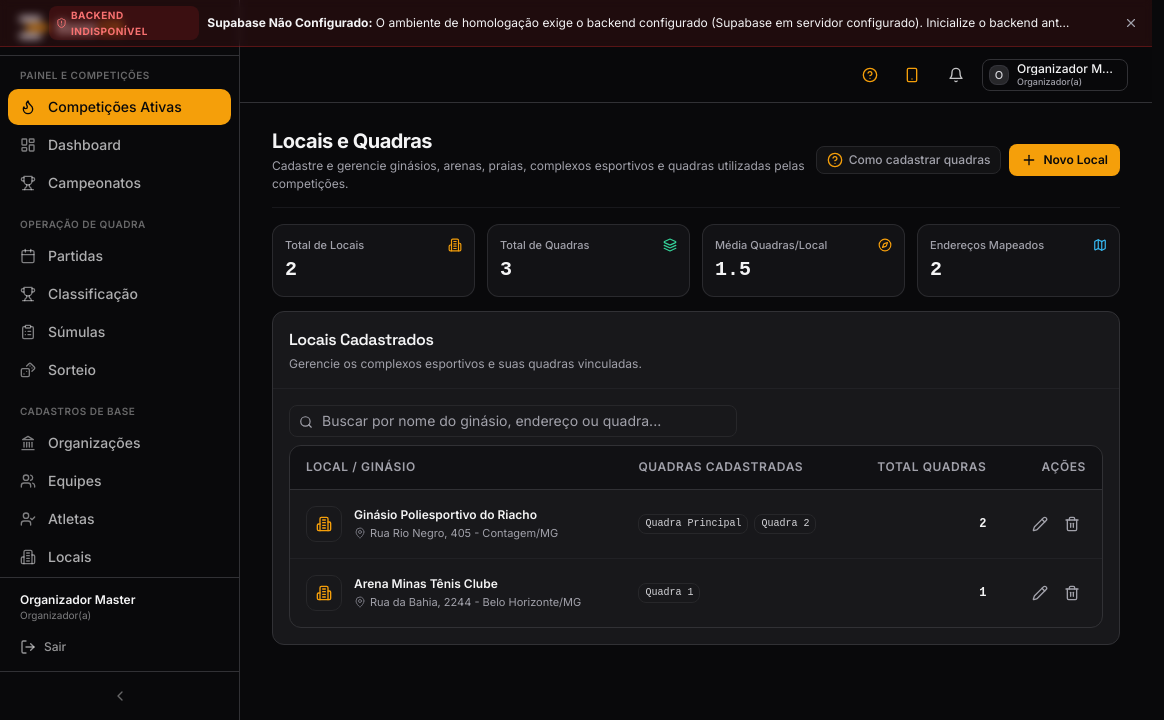
Test case: VenuesPage / LocationsPage Component (Fase 8.1) › filtra locais por busca textual em tempo real
Check: the text "Ginásio Poliesportivo do Riacho" is shown, box [354,507,558,523]
Type "Minas" into the field with placeholder "Buscar por nome do ginásio, endereço ou quadra..." at (513, 420), box [289,404,737,436]
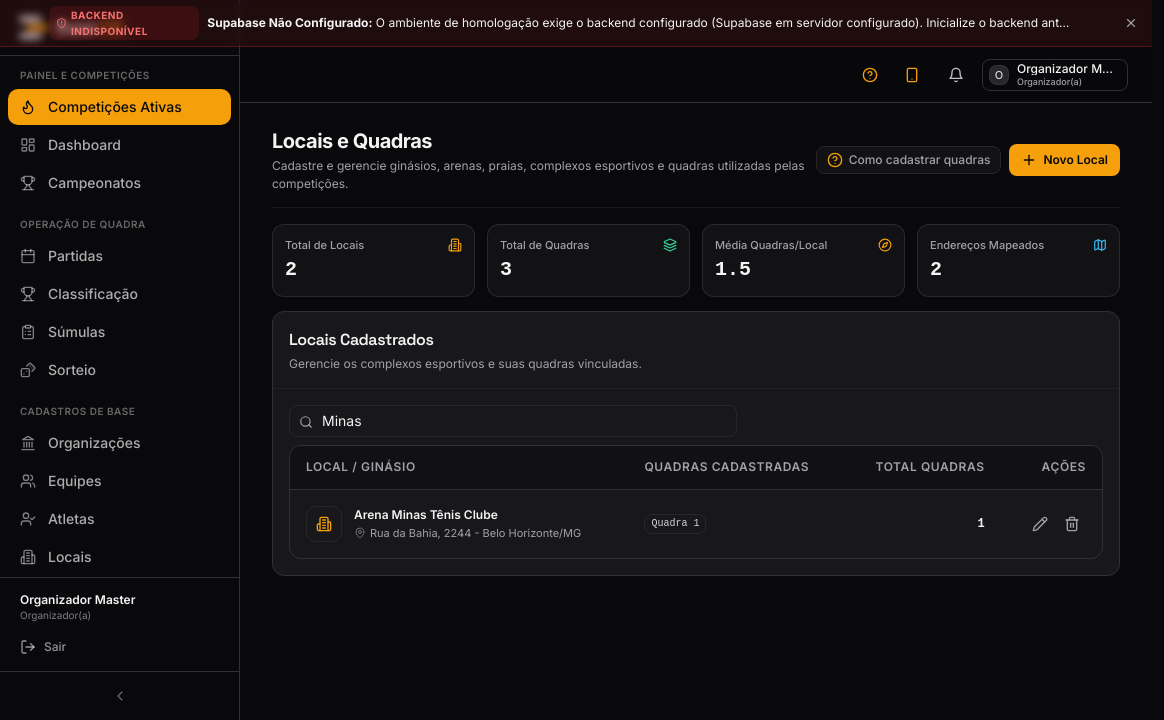
Check: the text "Arena Minas Tênis Clube" is shown, box [354,507,498,522]
Check: the text "Ginásio Poliesportivo do Riacho" is gone
